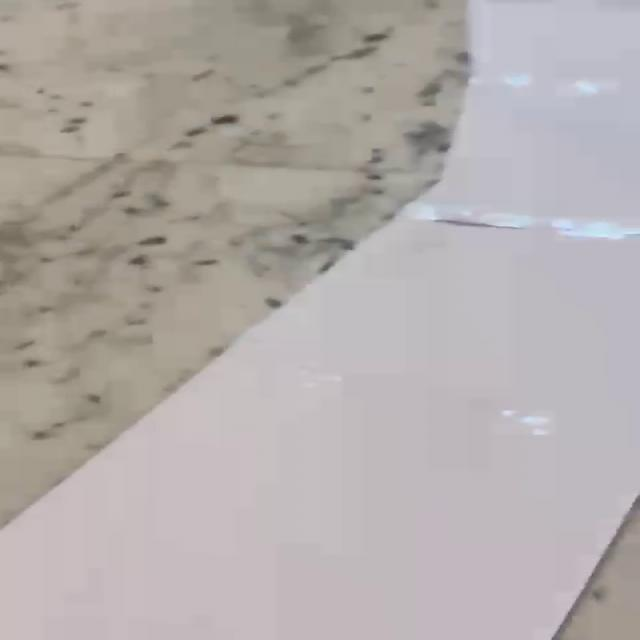road: (0, 0, 640, 640)
